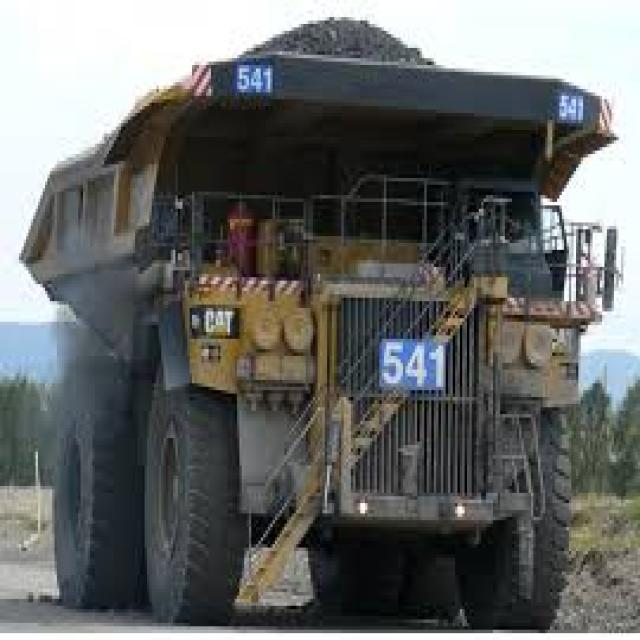dump_truck: (24, 24, 607, 637)
